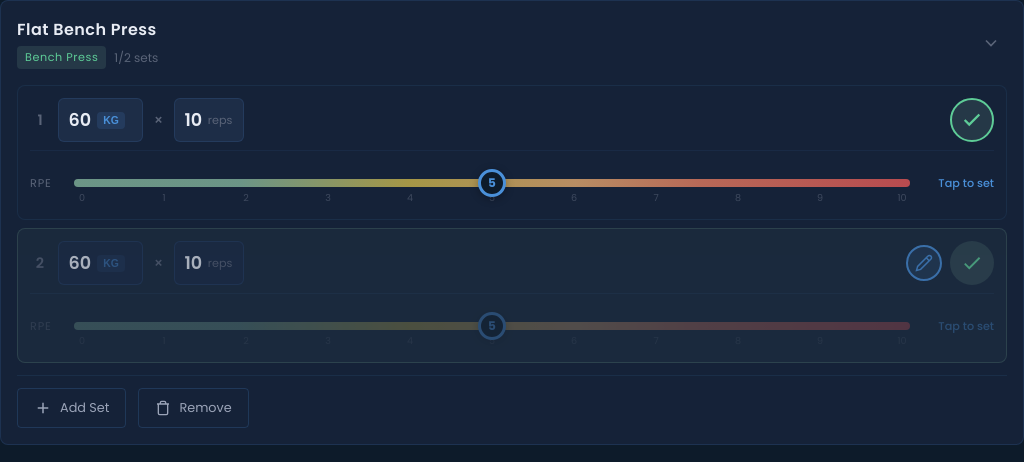
Test: ExerciseCard › collapse functionality › collapses when header is clicked
Click the element with class "exercise-header" at (87, 30), box [1, 1, 1023, 85]
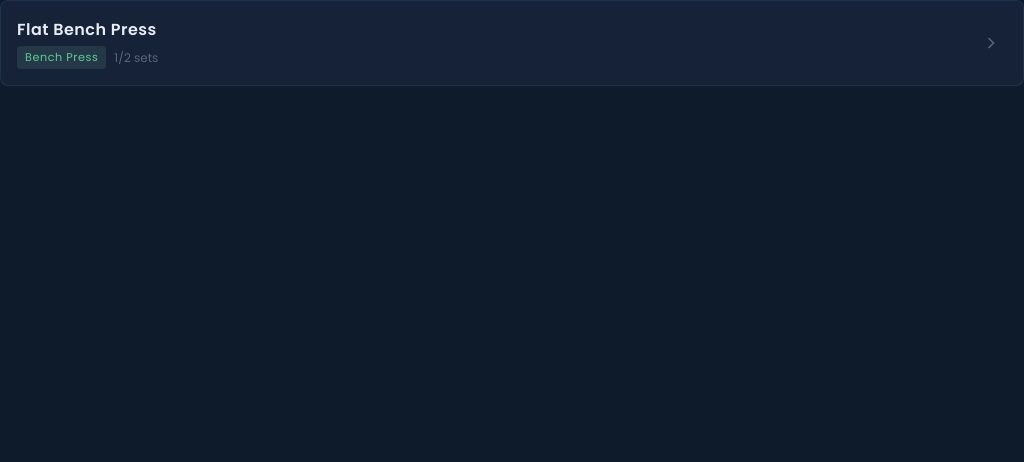
Expected: the element with class "exercise-body" is gone
